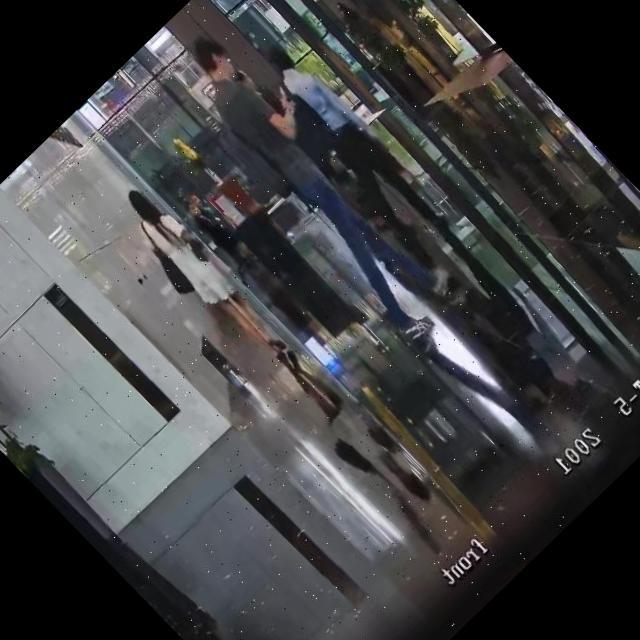person: (155, 19, 478, 348), (244, 34, 471, 266), (254, 34, 462, 247), (113, 178, 300, 368), (181, 190, 240, 250), (186, 190, 220, 223)
